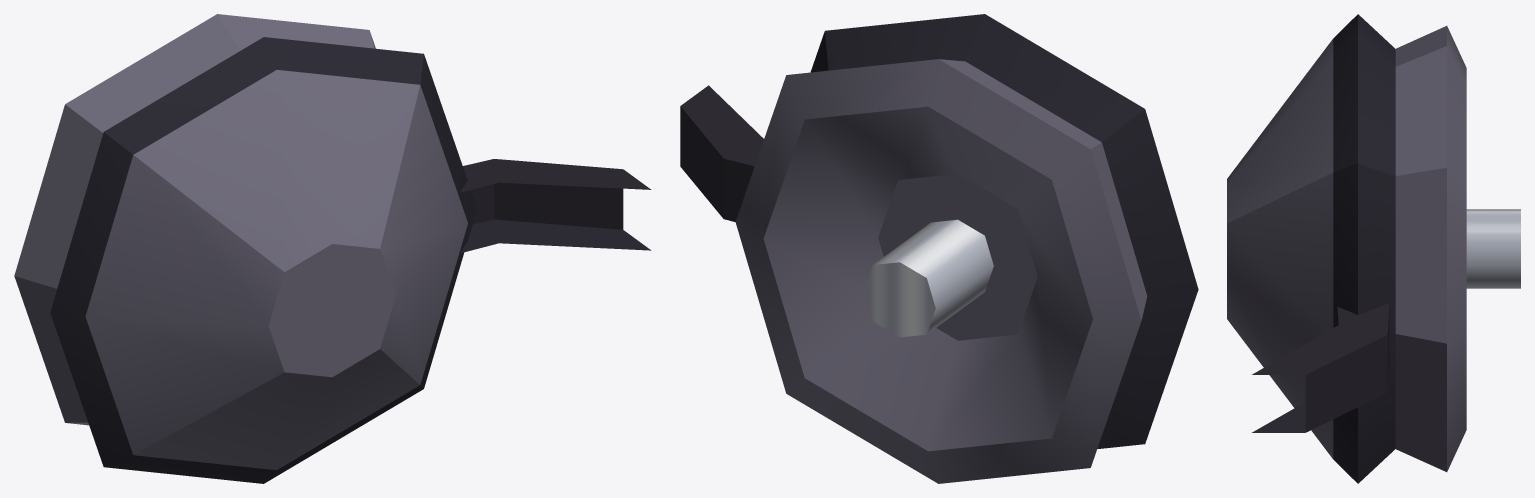
File: Wood Bridge Torch 01.FBX
3 views of the same model, side by side, from view 1: azimuth 30°, elevation 25°; view 2: azimuth 150°, elevation 25°; view 3: azimuth 270°, elevation 25° (orthographic). The views are drawn at different scales.
Parts seen in each view (by area): view 1: Wood Bridge Torch 01; view 2: Wood Bridge Torch 01; view 3: Wood Bridge Torch 01.
Boxes of the visible parts, x1,y1,x2,y2 form: Wood Bridge Torch 01: (14,14,651,483); Wood Bridge Torch 01: (680,14,1198,483); Wood Bridge Torch 01: (1227,14,1520,483).
Bounding box in the file's own units: 61.67 × 48.27 × 30.08.
